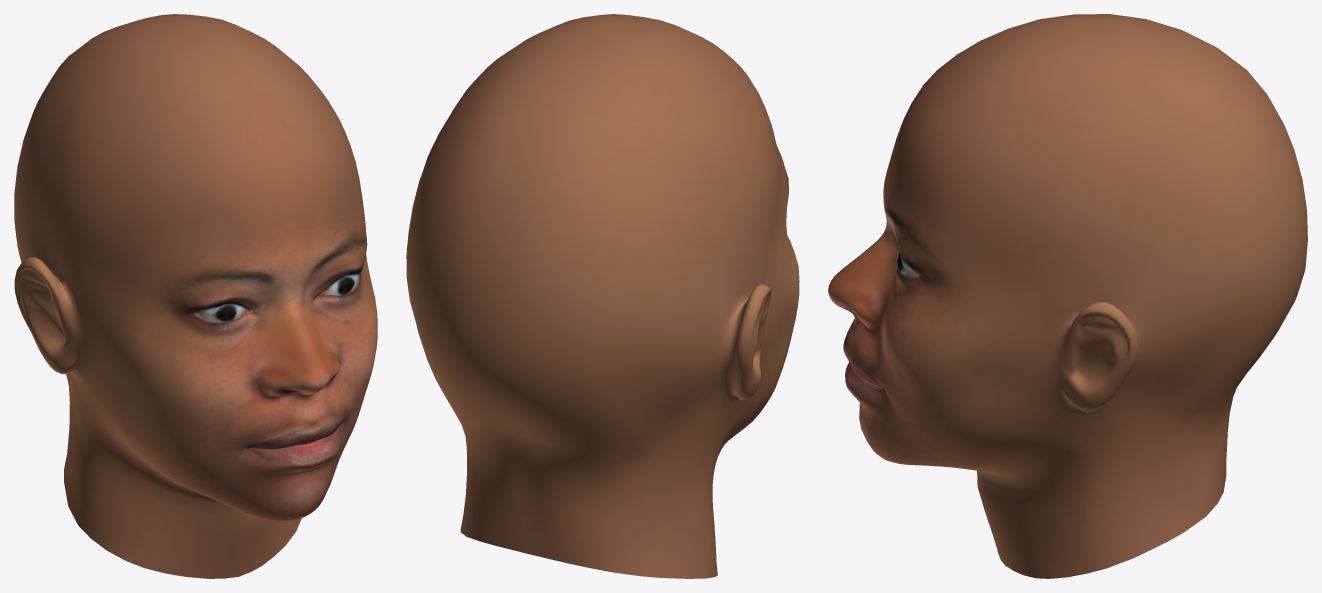
Rendered from v332_obj_ExpressionSad.obj.
3 renders of one model, left to right at view 1: azimuth 30°, elevation 25°; view 2: azimuth 150°, elevation 25°; view 3: azimuth 270°, elevation 25°, orthographic. The views are drawn at different scales.
Visible parts, largest first — view 1: HeadHires; view 2: HeadHires; view 3: HeadHires.
Part boxes in pixels (bbox=[...]): HeadHires: bbox=[14, 14, 377, 578]; HeadHires: bbox=[406, 14, 799, 578]; HeadHires: bbox=[828, 14, 1307, 578].
Size of the model in its own units: 187 by 282 by 233.
